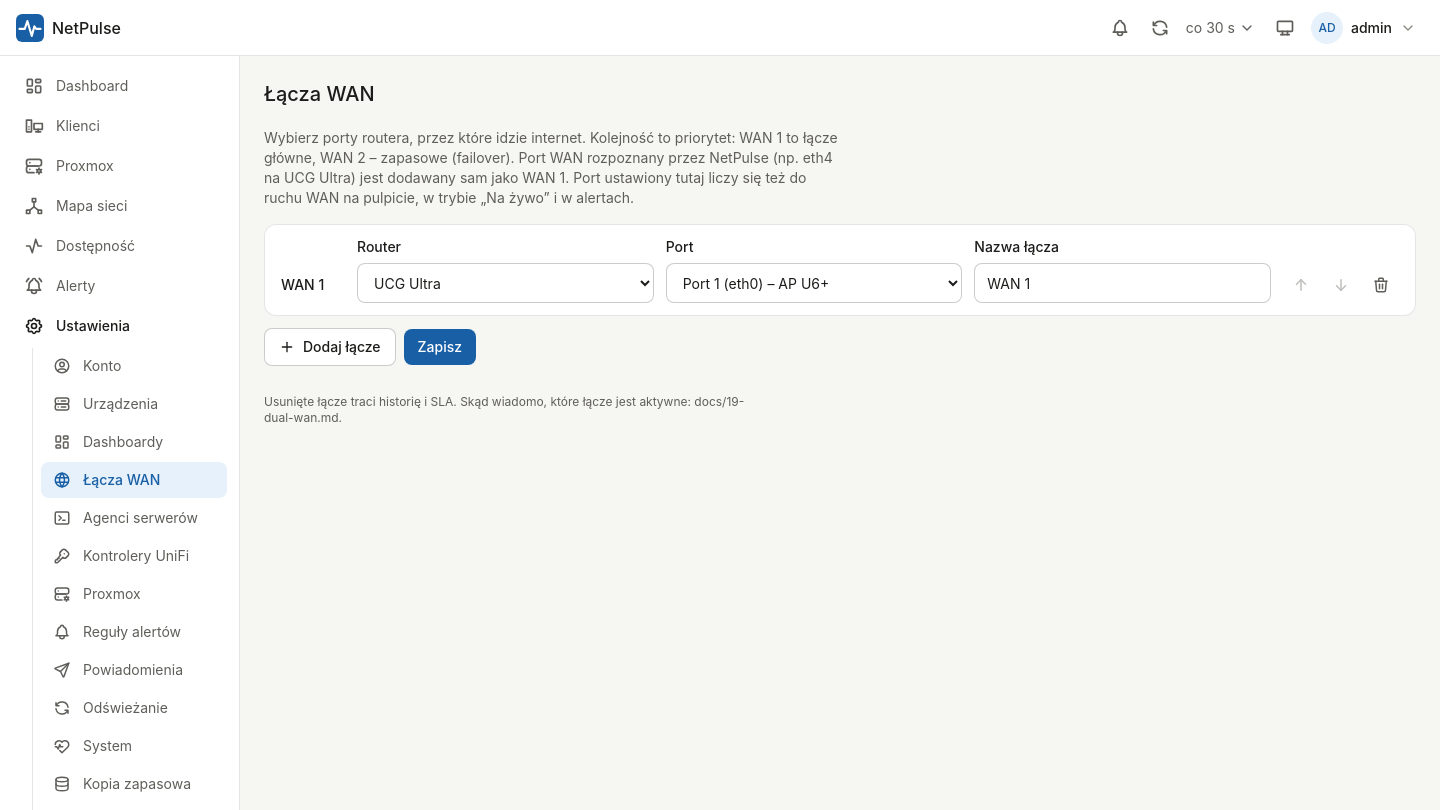
Test: pulpit i ustawienia łączy WAN › Ustawienia → Łącza WAN: dodanie łącza zapasowego
expect the field showing "WAN 1" is shown: met, box [974,263,1271,303]
Click the button "Dodaj łącze" at (330, 347), box [264,328,396,366]
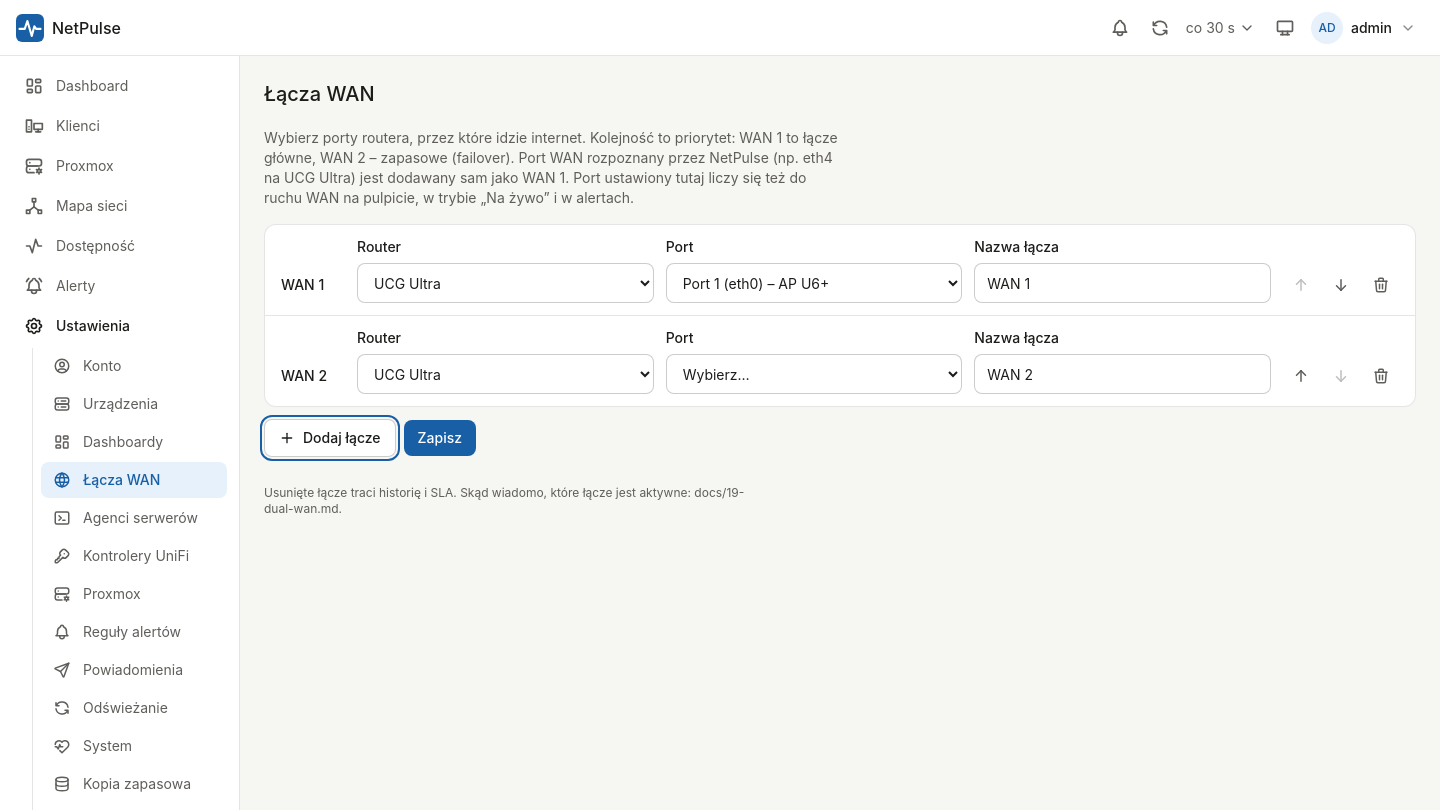
Click the button "Zapisz" at (440, 438), box [404,420,476,456]
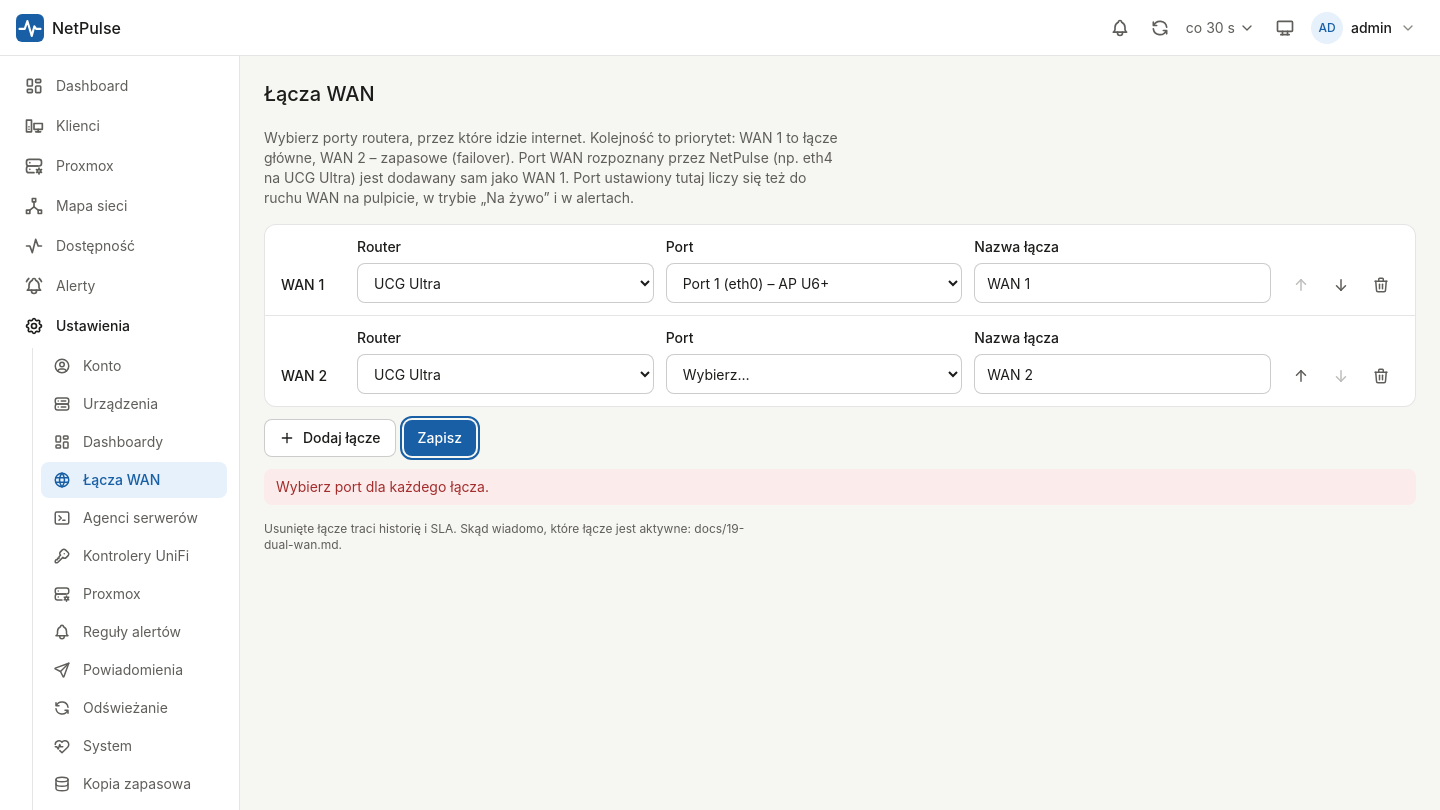
expect the text "Wybierz port dla każdego łącza." is shown: met, box [264,469,1416,505]
Select "Port 2 (eth1)" in the 2nd dropdown labelled "Port" at (814, 374), box [666,354,962,394]
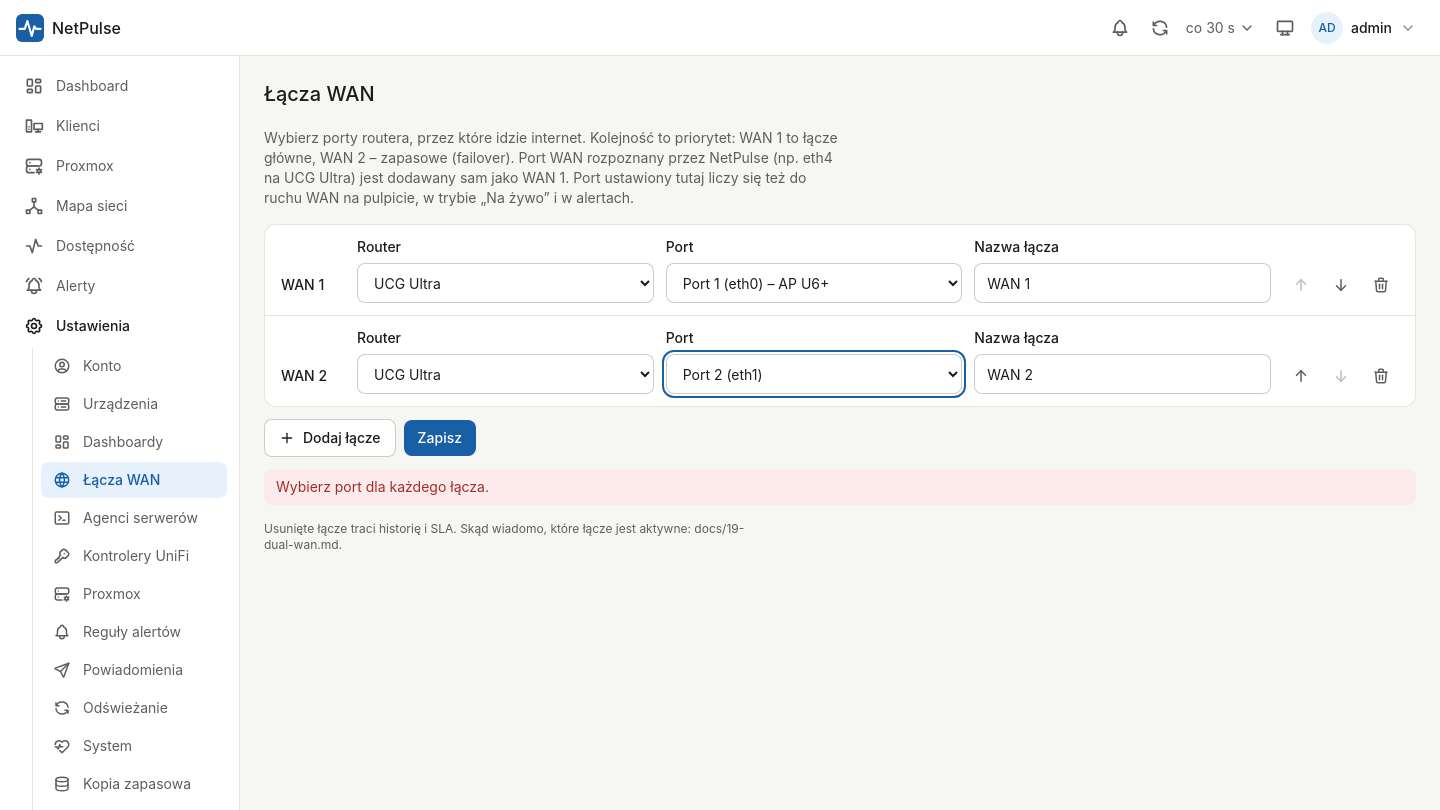
Replace the text in the 2nd field labelled "Nazwa łącza" with "LTE" at (1123, 374), box [974,354,1271,394]
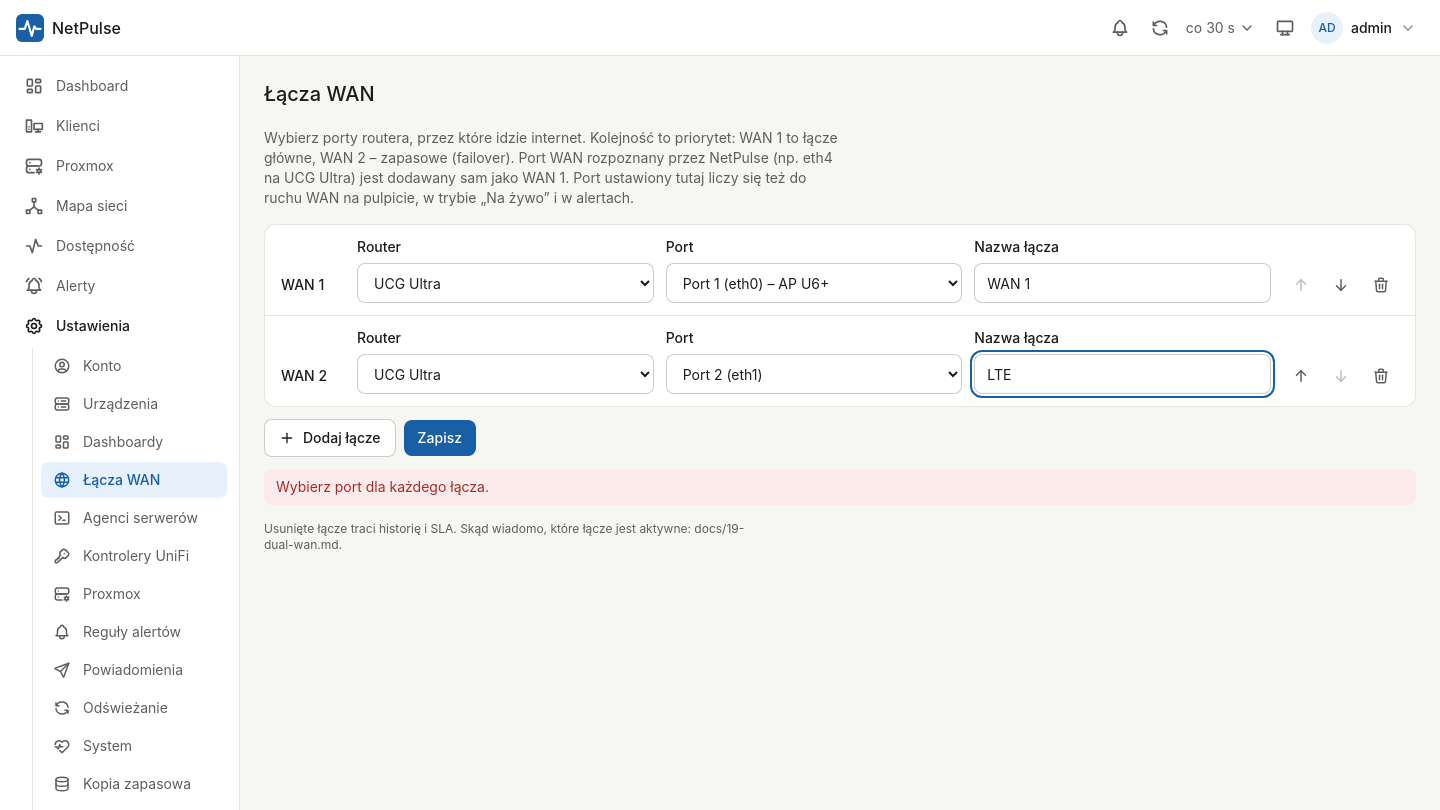
Click the button named "Przesuń WAN 2 wyżej" at (1301, 376), box [1283,358,1319,394]
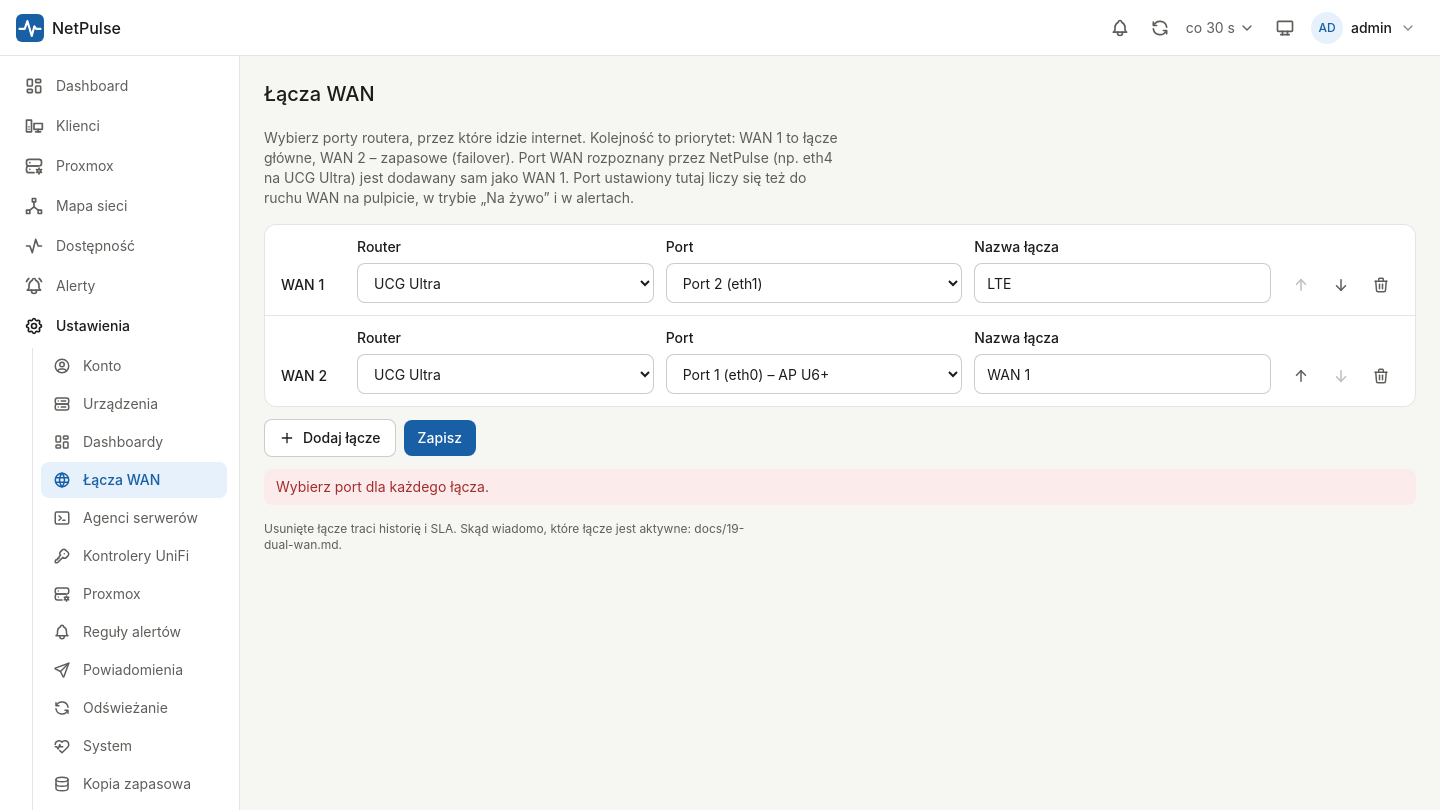
Click the button "Zapisz" at (440, 438), box [404,420,476,456]
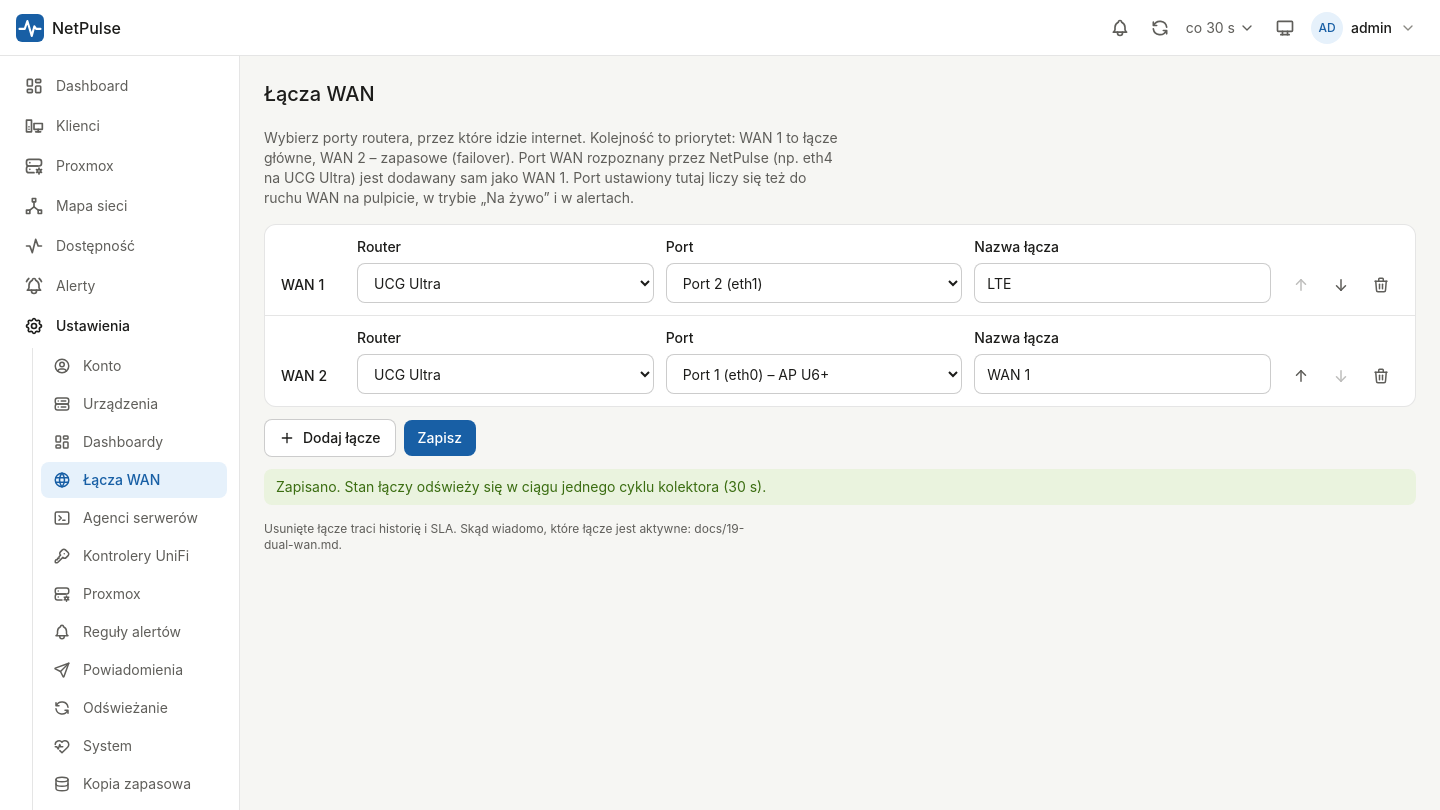
expect the text "Zapisano. Stan łączy odświeży się w ciągu jednego cyklu kolektora (30 s)." is shown: met, box [264,469,1416,505]
